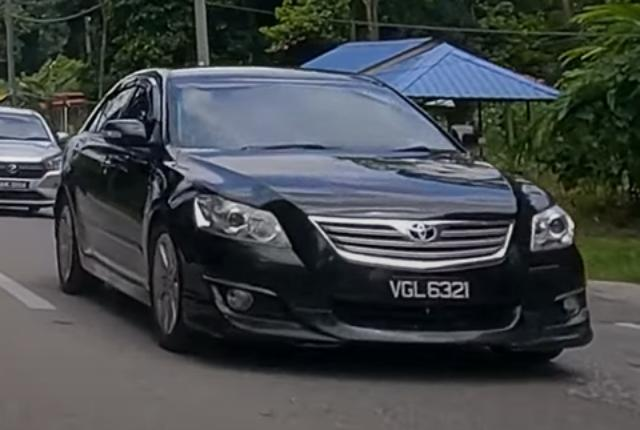License_Plate: (386, 281, 472, 303)
car: (54, 66, 595, 367), (1, 105, 69, 217)
